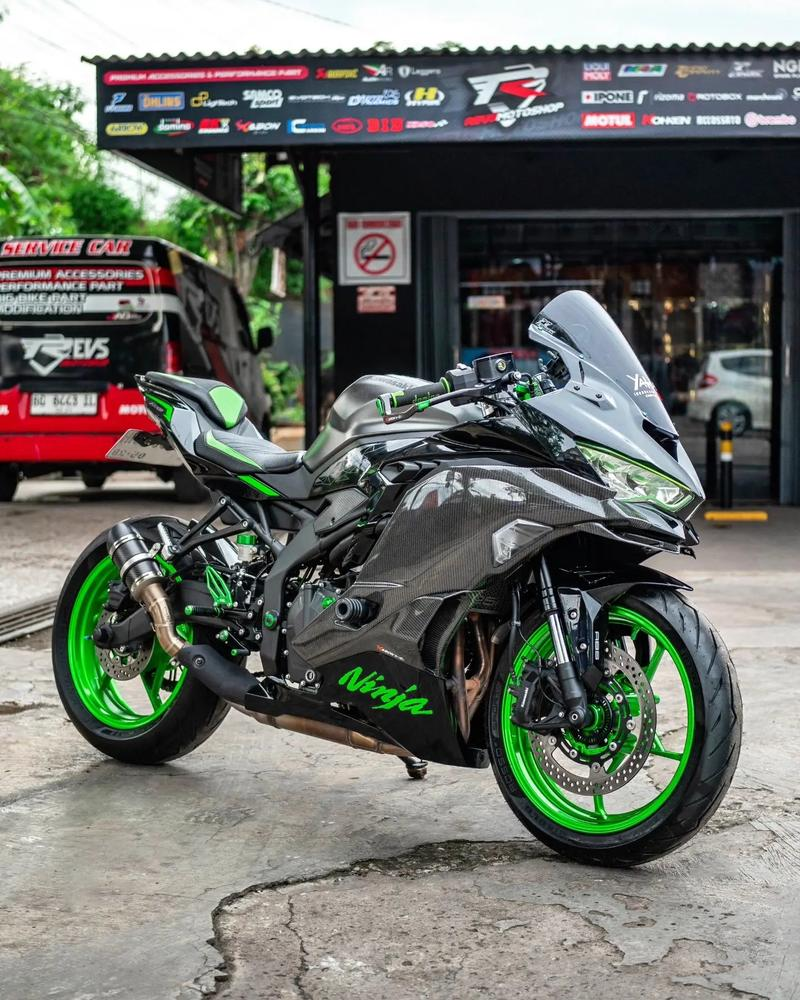摩托车: (58, 361, 736, 877)
